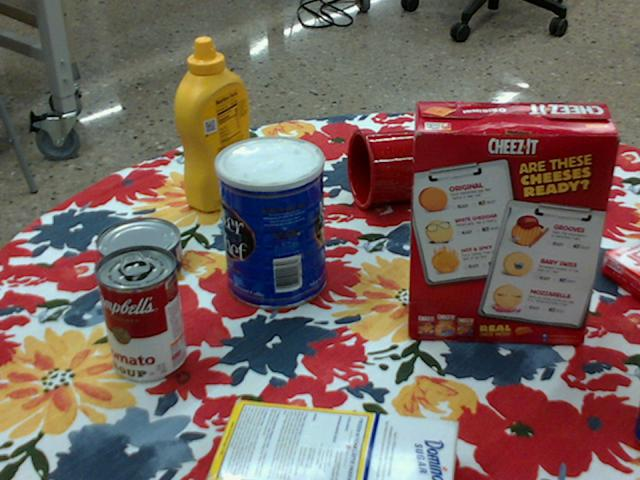cracker_box: (407, 102, 621, 347)
gelatin_box: (600, 239, 639, 299)
large_marker: (506, 166, 606, 207)
master_chef_can: (215, 135, 325, 309)
mug: (346, 129, 437, 212)
mustard_bottle: (176, 38, 257, 213)
potted_meat_can: (636, 416, 639, 440)
sugar_box: (204, 401, 459, 479)
tomato_soup_can: (95, 244, 186, 381)
tuna_fish_can: (97, 216, 183, 284)
